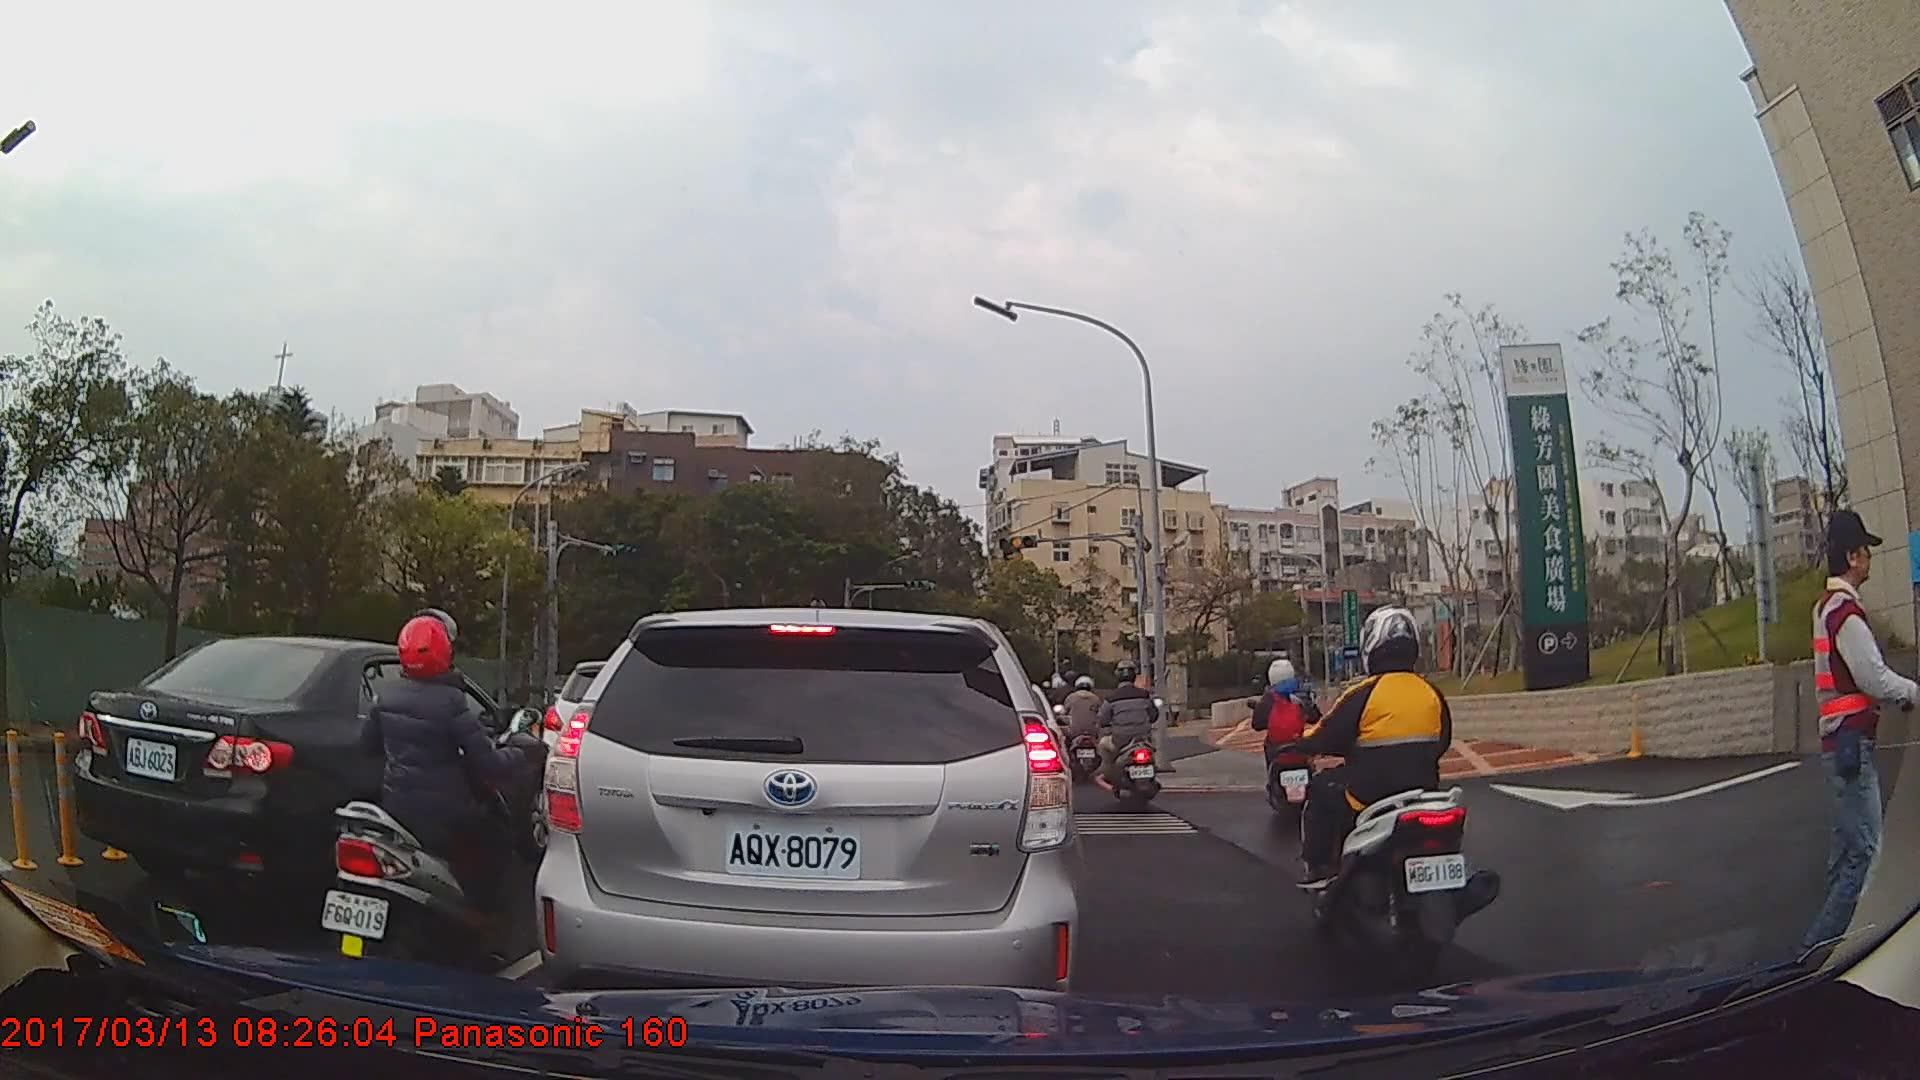pedestrian: (1793, 510, 1920, 975)
rider: (321, 609, 532, 999), (1297, 603, 1514, 975), (1247, 654, 1327, 829), (1098, 657, 1165, 816), (1066, 673, 1112, 785)
vehicle: (536, 608, 1085, 1018), (72, 634, 570, 907)
